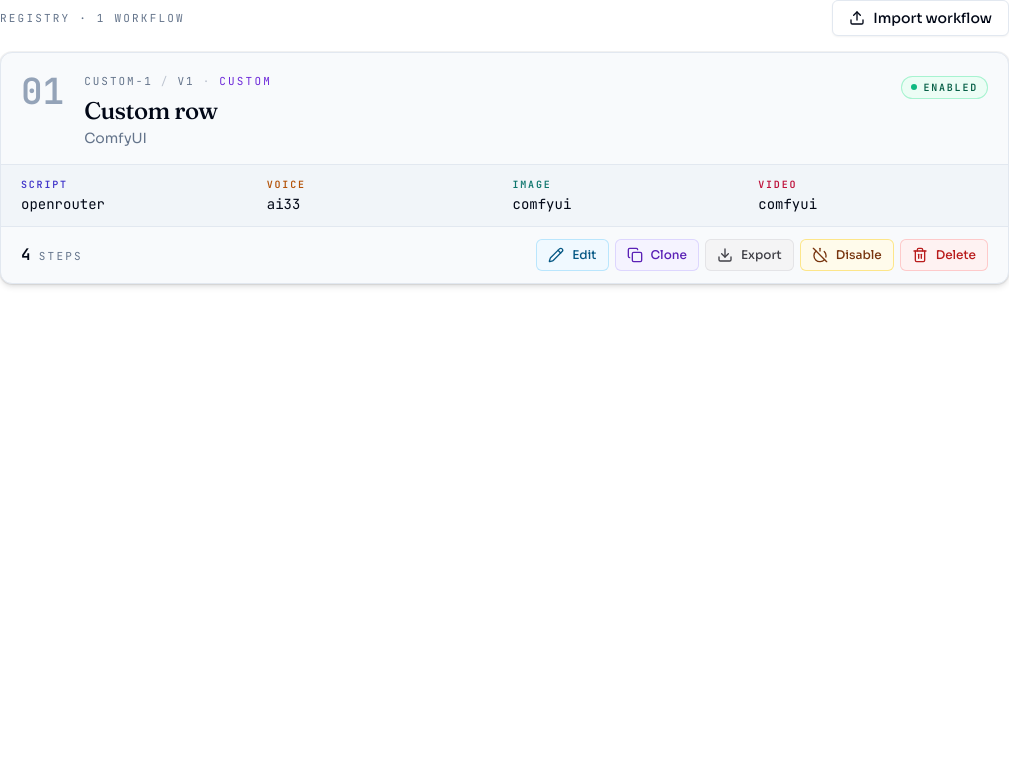
WorkflowsTable delete confirm › clicking Delete opens a confirm dialog with the workflow id
Click the button "Delete".
click(944, 254)  # box [900,238,988,270]
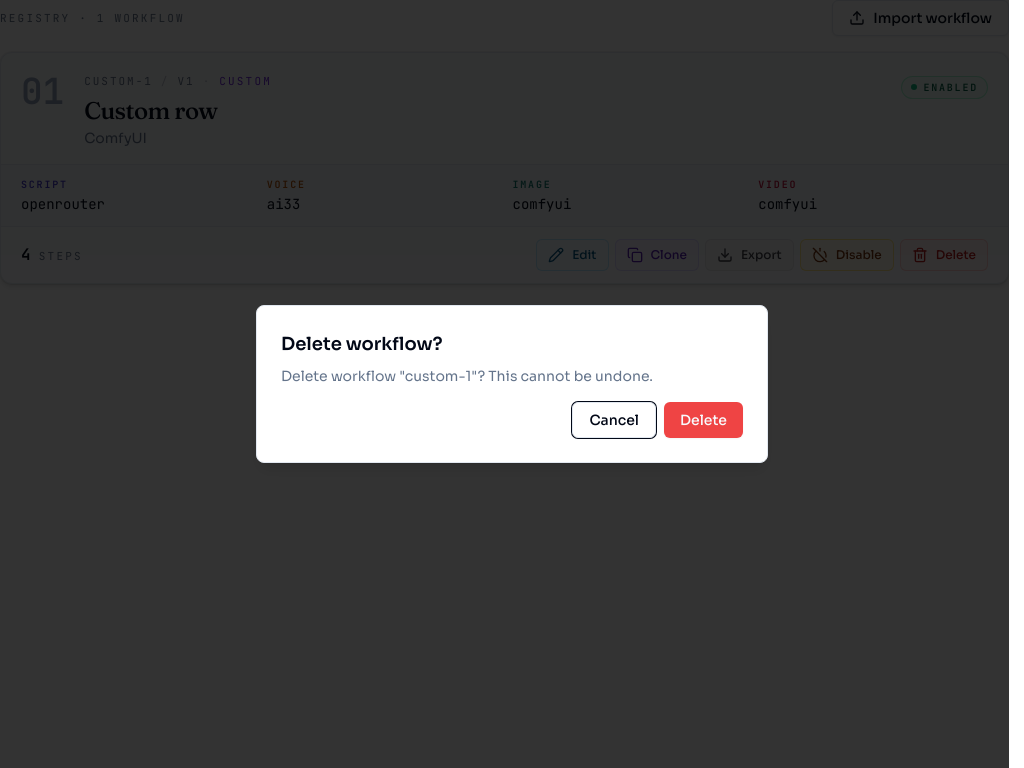
Expected: the text "Delete workflow \"custom-1\"? This cannot be undone." is shown, [281,367,653,385]
